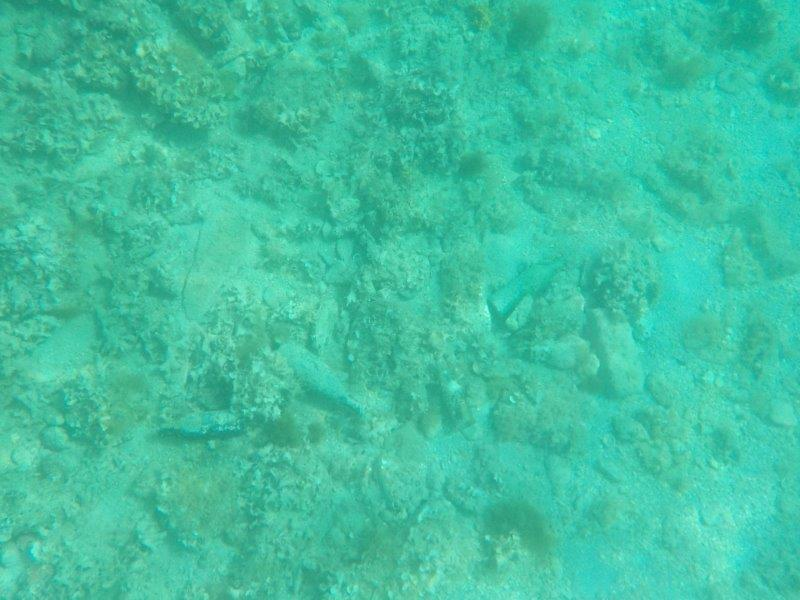bottle: (273, 339, 368, 416), (487, 255, 571, 321), (428, 348, 479, 432), (155, 409, 250, 440)
